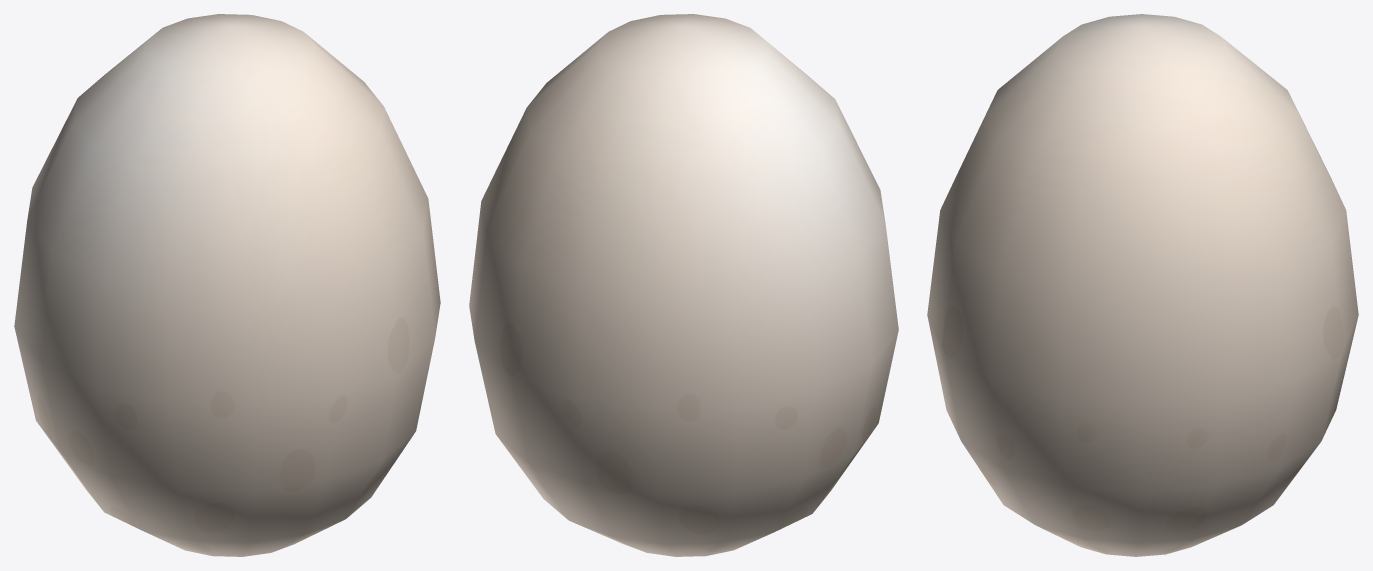
Rendered from ENV1810009.fbx.
The picture shows the model from 3 angles, left to right: view 1: azimuth 30°, elevation 25°; view 2: azimuth 150°, elevation 25°; view 3: azimuth 270°, elevation 25°; orthographic projection.
Parts seen in each view (by area): view 1: smENV1810009; view 2: smENV1810009; view 3: smENV1810009.
Boxes of the visible parts, x1,y1,x2,y2 form: smENV1810009: (14, 14, 440, 556); smENV1810009: (469, 14, 898, 556); smENV1810009: (927, 14, 1358, 556).
Bounding box in the file's own units: 5.26 × 6.87 × 5.26.
1 material, 1 textured.
